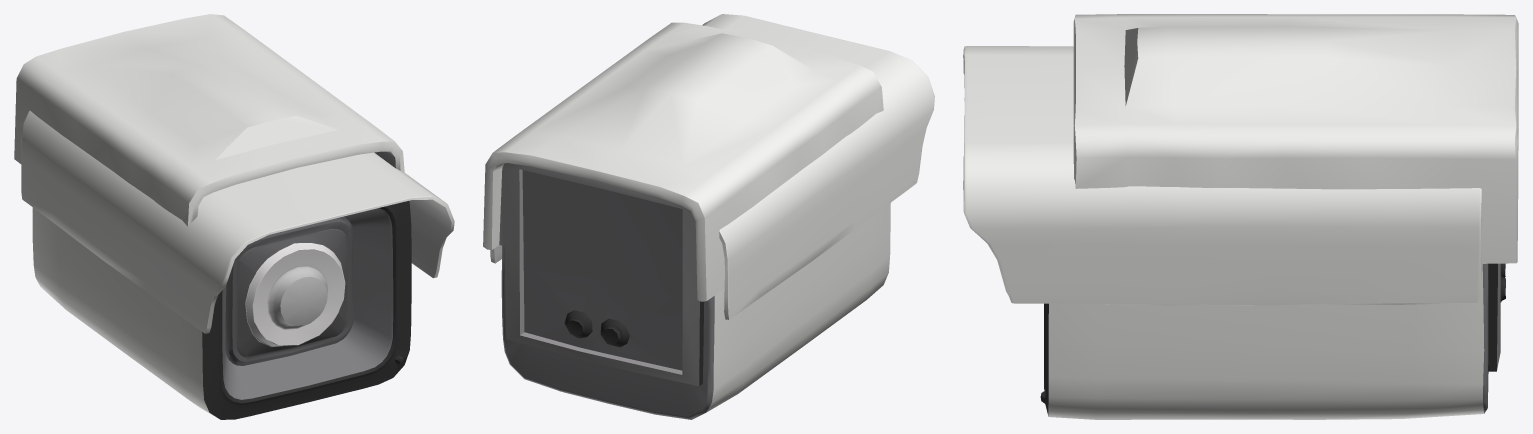
The model's file is cameramen_head.fbx.
3 views of the same model, side by side, from view 1: azimuth 30°, elevation 25°; view 2: azimuth 150°, elevation 25°; view 3: azimuth 270°, elevation 25° (orthographic). The views are drawn at different scales.
Parts seen in each view (by area): view 1: cameramen_head; view 2: cameramen_head; view 3: cameramen_head.
Part boxes in pixels (box(x1,y1,x2,y2)): cameramen_head: box(14, 14, 454, 419); cameramen_head: box(483, 14, 934, 419); cameramen_head: box(963, 14, 1518, 419).
Bounding box in the file's own units: 33.38 × 35.9 × 54.19.
